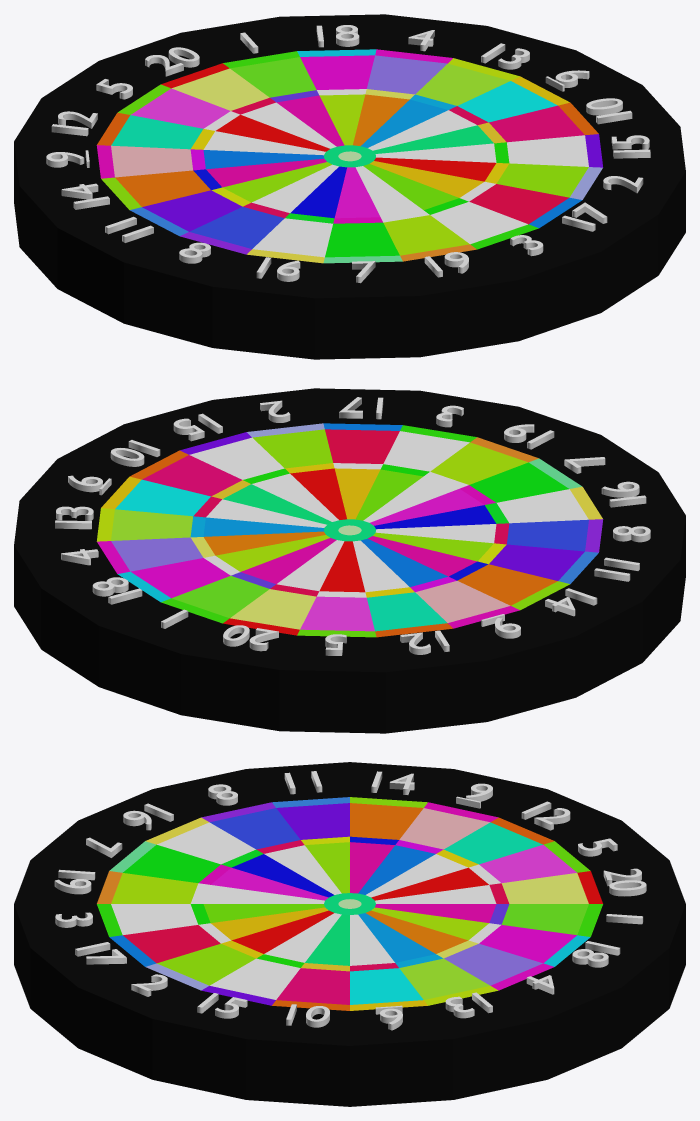
Rendered from SegmentedDartboard.glb.
3 renders of one model, top to bottom at view 1: azimuth 30°, elevation 25°; view 2: azimuth 150°, elevation 25°; view 3: azimuth 270°, elevation 25°, orthographic.
Visible parts, largest first — view 1: Cylinder, 20, 10, 14, 15, 12, 17, 13, 18, 19, 16, 11 (+3 smaller); view 2: Cylinder, 20, 18, 10, 16, 13, 19, 15, 14, 11, 12, 8 (+2 smaller); view 3: Cylinder, 20, 18, 19, 12, 17, 16, 15, 13, 10, 9, 14.
Part boxes in pixels (box(x1,y1,x2,y2)): Cylinder: box(14, 14, 685, 359); 20: box(145, 47, 199, 76); 10: box(586, 98, 632, 124); 14: box(61, 183, 109, 209); 15: box(611, 135, 650, 158); 12: box(51, 111, 97, 136); 17: box(562, 202, 607, 231); 13: box(481, 43, 529, 69); 18: box(316, 25, 359, 47); 19: box(424, 252, 468, 277); 16: box(256, 257, 300, 281); 11: box(105, 216, 153, 242); Cylinder: box(14, 388, 685, 733); 20: box(223, 625, 278, 651); 18: box(92, 577, 142, 604); 10: box(110, 440, 160, 466); 16: box(601, 481, 646, 507); 13: box(55, 506, 93, 529); 19: box(504, 424, 554, 449); 15: box(173, 413, 222, 441); 14: box(545, 588, 597, 616); 11: box(594, 557, 639, 581); 12: box(400, 630, 449, 654); 8: box(613, 526, 650, 542); Cylinder: box(14, 762, 685, 1106); 20: box(603, 868, 646, 896); 18: box(572, 941, 620, 967); 19: box(54, 869, 95, 894); 12: box(521, 801, 570, 830); 17: box(75, 942, 126, 964); 16: box(123, 803, 173, 830); 15: box(197, 993, 247, 1018); 13: box(445, 992, 492, 1018); 10: box(286, 1004, 329, 1027); 9: box(456, 783, 492, 808); 14: box(371, 771, 414, 794).
Bounding box in the file's own units: 5.01 × 0.5504 × 5.01.
